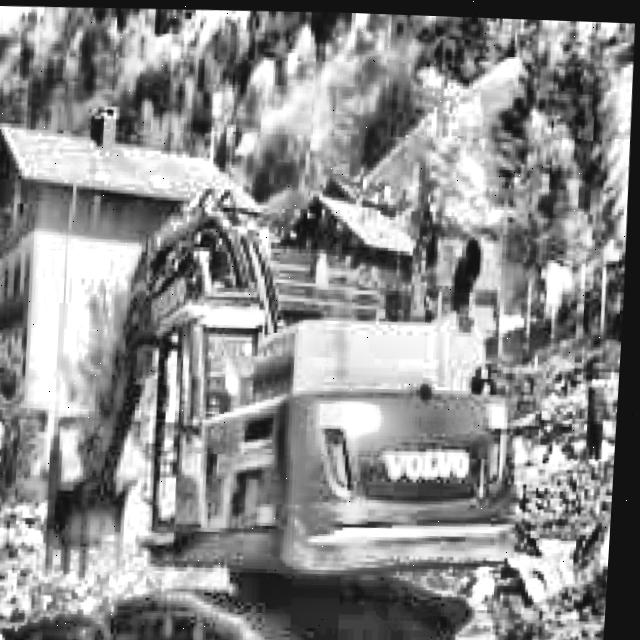excavator: (32, 170, 539, 640)
